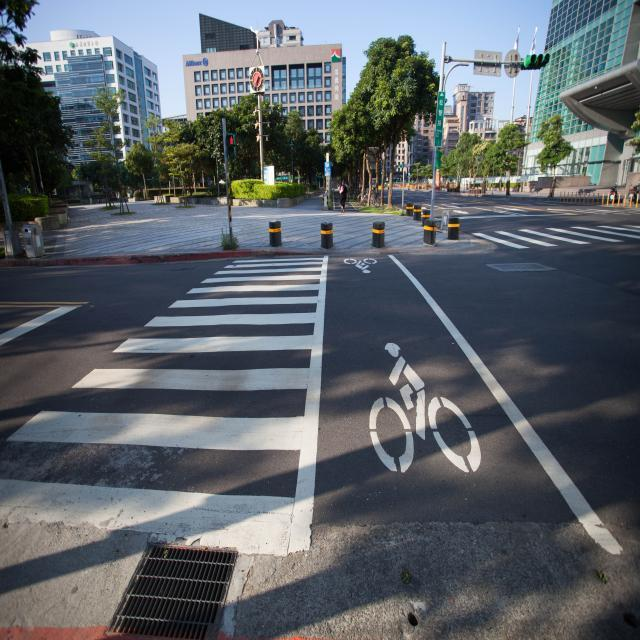manhole: (110, 544, 239, 634)
